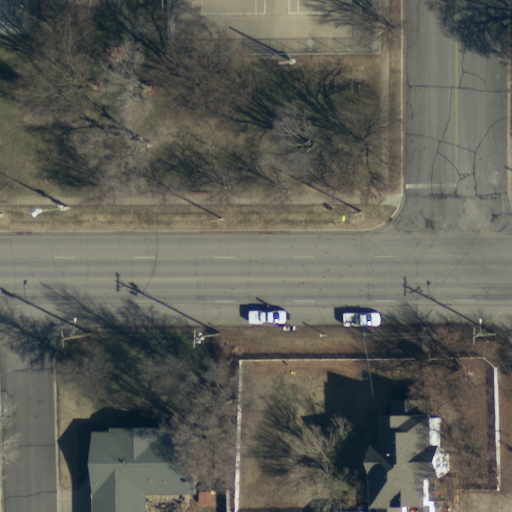DT: (57, 320, 95, 352), (465, 317, 502, 349), (29, 200, 74, 225), (186, 326, 227, 351), (193, 211, 233, 231), (335, 208, 370, 228)
